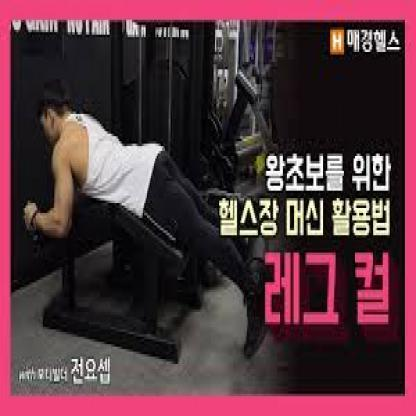reg curl machine: (23, 85, 291, 358)
